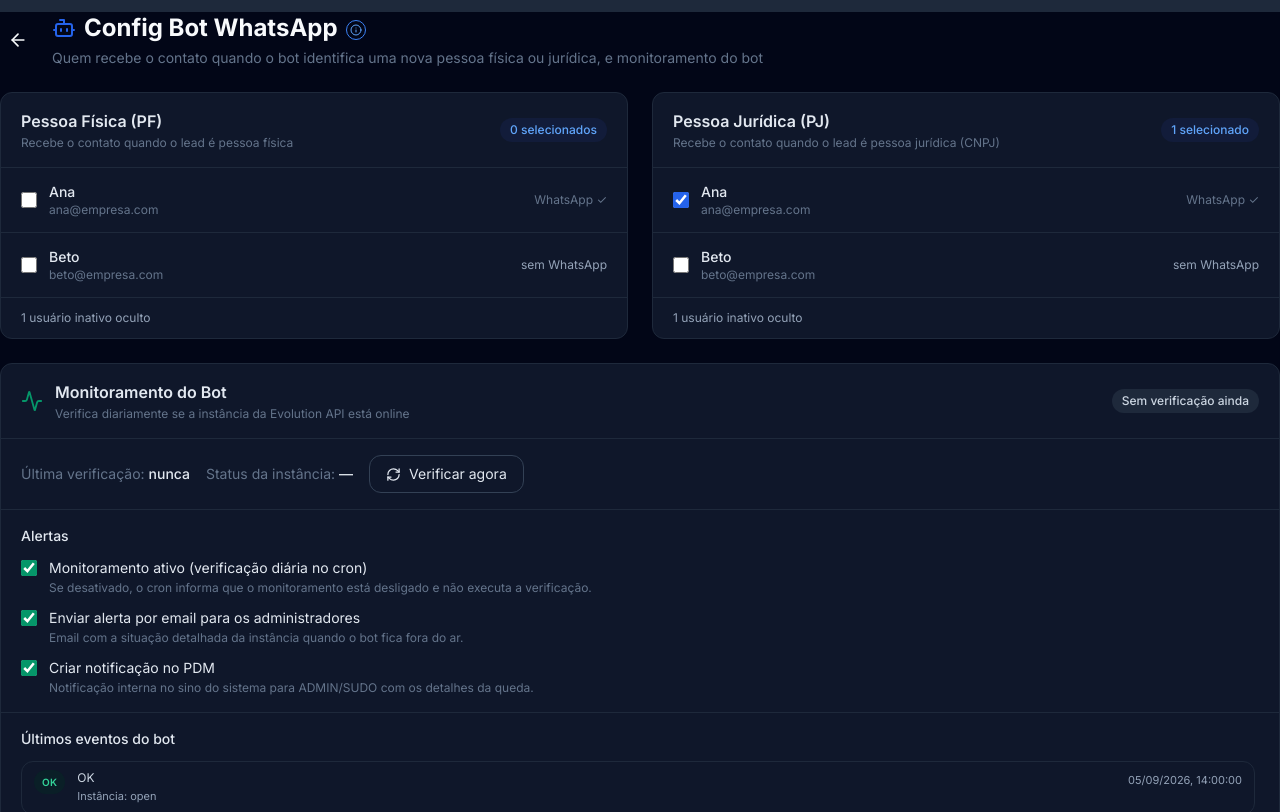
Scenario: BotConfigAdminPage › verifica agora via POST e mostra o status online
What coordinates should you click on to do the following:
click the button "Verificar agora"
I would click on:
 (446, 474)
Its box is [369, 455, 524, 493].
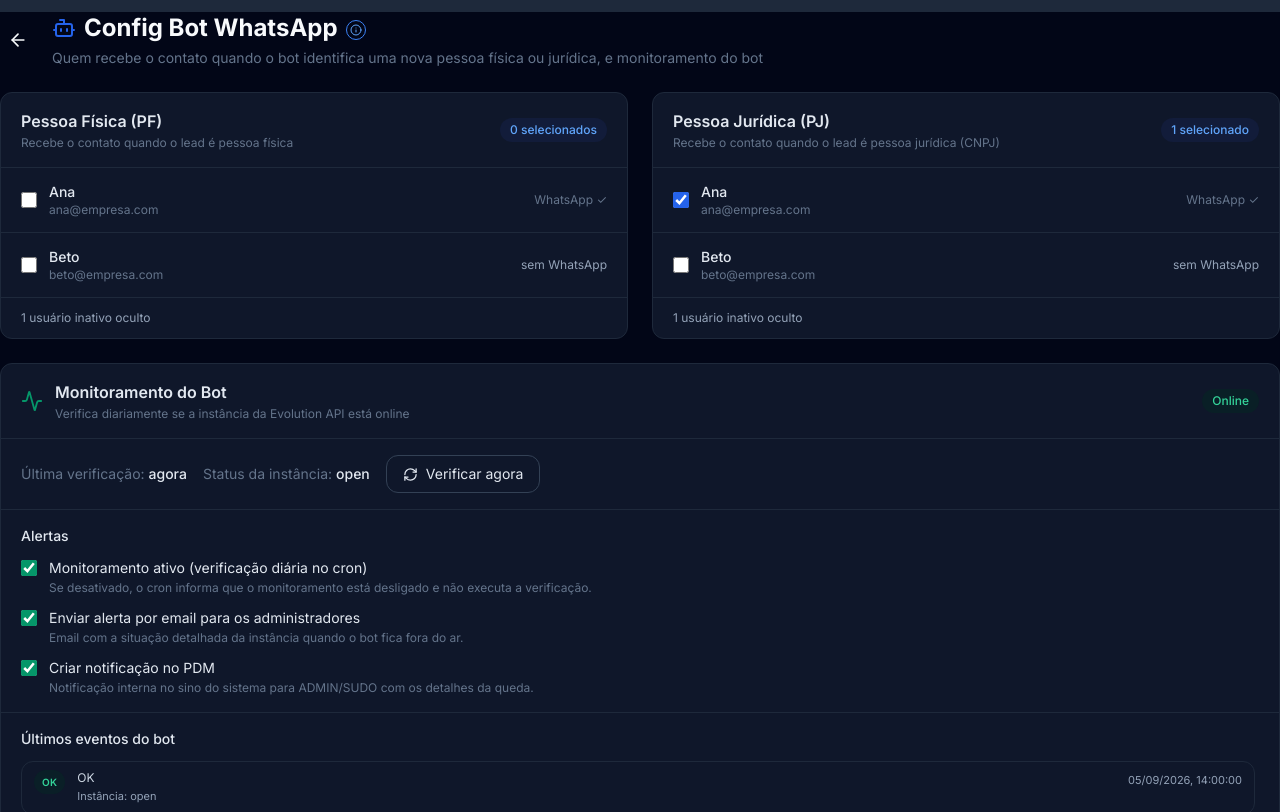
Check: the text "Online" is shown, box [1202, 389, 1259, 413]
